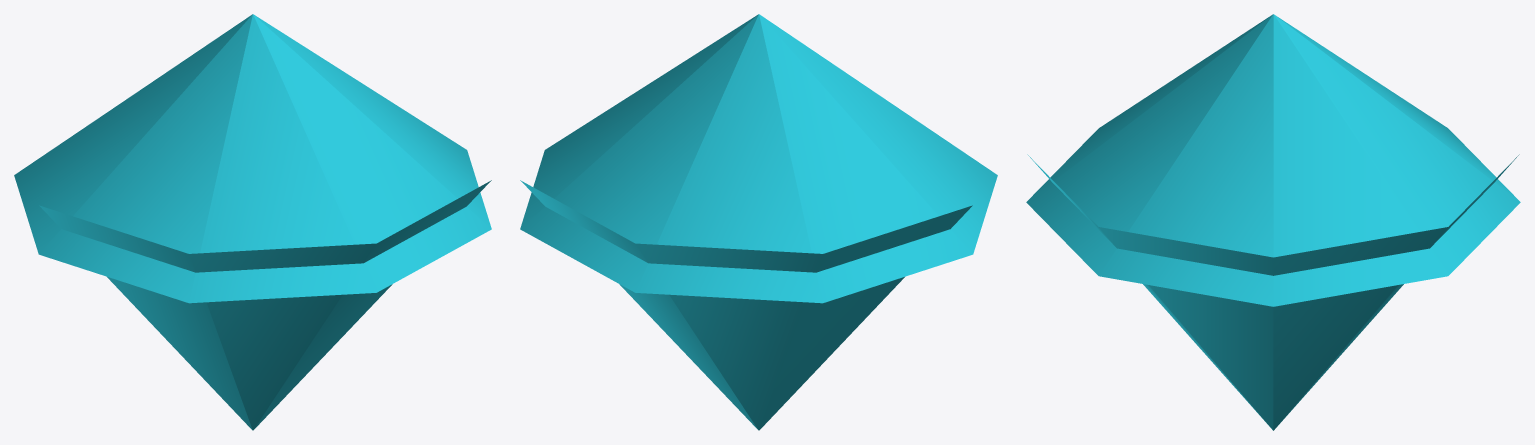
File: gem.glb
3 renders of one model, left to right at view 1: azimuth 30°, elevation 25°; view 2: azimuth 150°, elevation 25°; view 3: azimuth 270°, elevation 25°, orthographic.
Parts seen in each view (by area): view 1: match/gem; view 2: match/gem; view 3: match/gem.
Part boxes in pixels (left/top/right/bottom): match/gem: left=14, top=14, right=491, bottom=430; match/gem: left=520, top=14, right=997, bottom=430; match/gem: left=1026, top=14, right=1520, bottom=430.
Size of the model in its own units: 1 by 0.9301 by 1.
